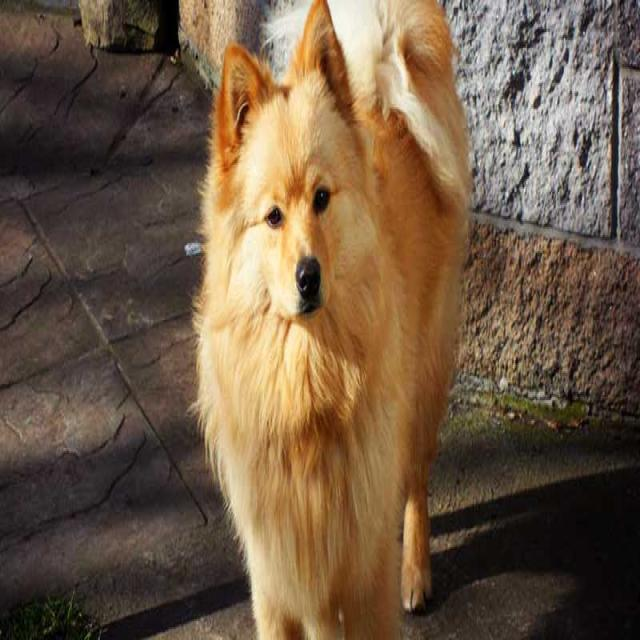dog: (182, 15, 390, 426)
